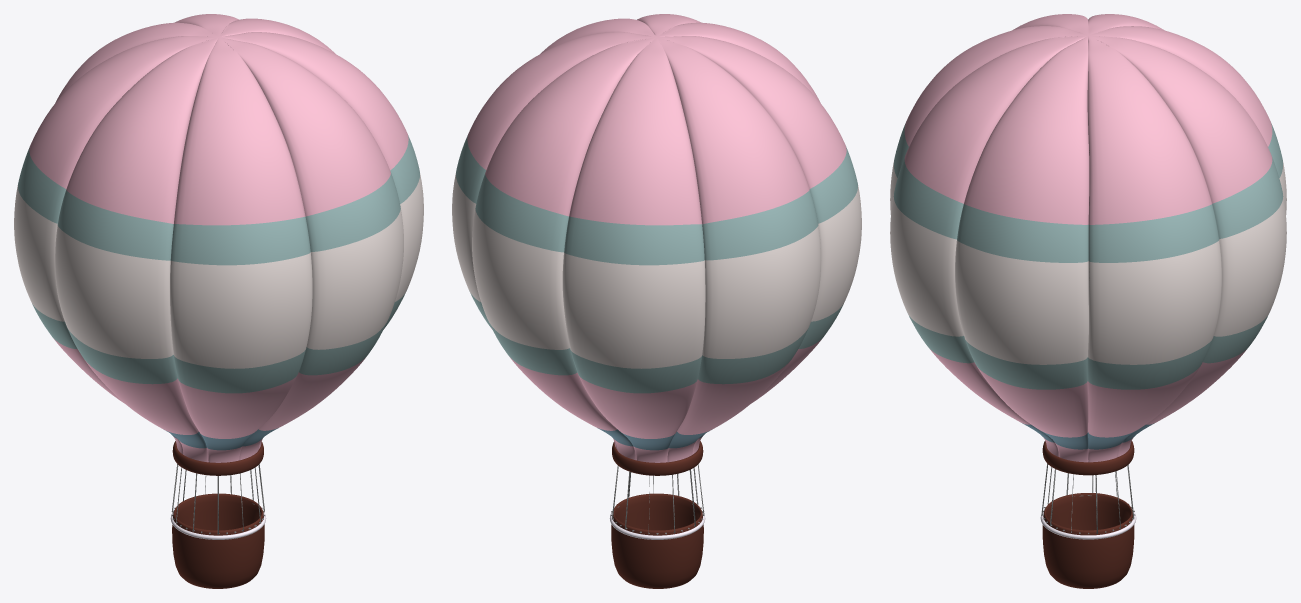
The picture shows the model from 3 angles, left to right: view 1: azimuth 30°, elevation 25°; view 2: azimuth 150°, elevation 25°; view 3: azimuth 270°, elevation 25°; orthographic projection.
Parts seen in each view (by area): view 1: Sphere, Circle, Circle.001, Cycloid.001; view 2: Sphere, Circle, Circle.001, Cycloid.001; view 3: Sphere, Circle, Circle.001, Cycloid.001, BezierCircle.
Boxes of the visible parts, <box> form: Sphere: <box>14,14,423,462</box>; Circle: <box>172,493,264,588</box>; Circle.001: <box>172,441,263,475</box>; Cycloid.001: <box>171,464,265,534</box>; Sphere: <box>452,14,861,462</box>; Circle: <box>611,493,703,588</box>; Circle.001: <box>612,441,703,475</box>; Cycloid.001: <box>610,464,704,534</box>; Sphere: <box>890,14,1286,462</box>; Circle: <box>1042,493,1134,588</box>; Circle.001: <box>1042,441,1134,475</box>; Cycloid.001: <box>1041,463,1135,533</box>; BezierCircle: <box>1040,509,1136,539</box>.
Size of the model in its own units: 777 by 1169 by 777.
